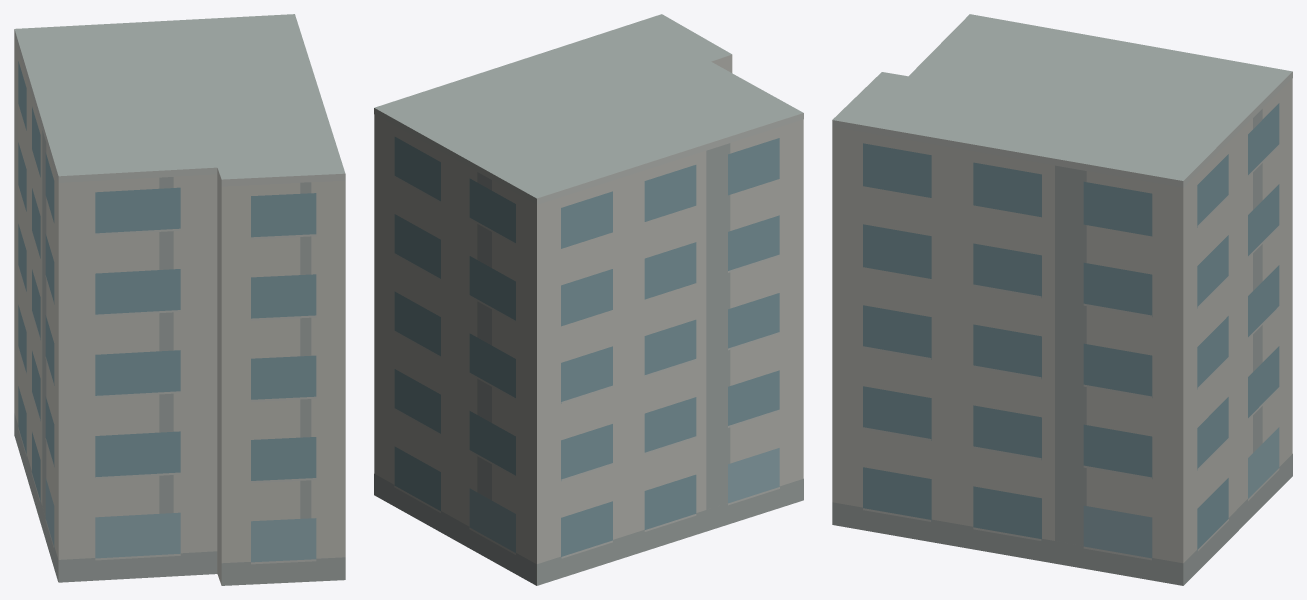
The model's file is survey-upis-32535369.glb.
3 renders of one model, left to right at view 1: azimuth 30°, elevation 25°; view 2: azimuth 150°, elevation 25°; view 3: azimuth 270°, elevation 25°, orthographic. The views are drawn at different scales.
Parts seen in each view (by area): view 1: survey-upis-32535369.tmp; view 2: survey-upis-32535369.tmp; view 3: survey-upis-32535369.tmp.
Part boxes in pixels (left/top/right/bottom): survey-upis-32535369.tmp: left=14, top=14, right=345, bottom=585; survey-upis-32535369.tmp: left=374, top=14, right=803, bottom=585; survey-upis-32535369.tmp: left=832, top=14, right=1292, bottom=585.
Size of the model in its own units: 12.75 by 14.4 by 14.86.
